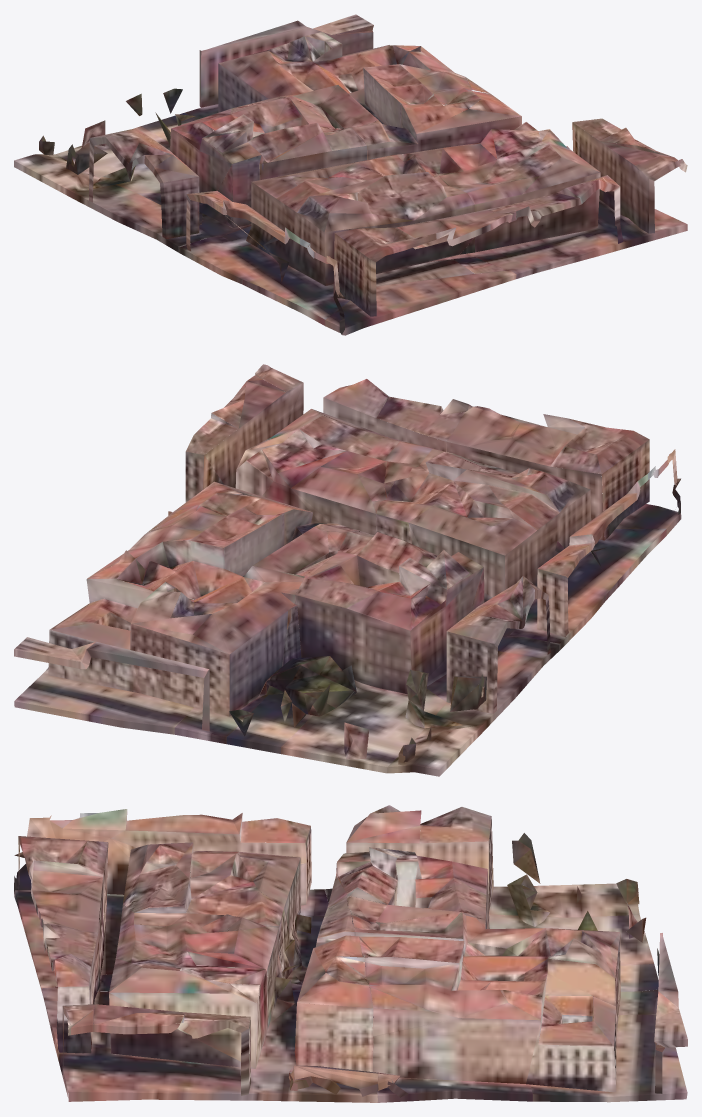
The picture shows the model from 3 angles, top to bottom: view 1: azimuth 30°, elevation 25°; view 2: azimuth 150°, elevation 25°; view 3: azimuth 270°, elevation 25°; orthographic projection. The views are drawn at different scales.
Parts seen in each view (by area): view 1: Mesh_0; view 2: Mesh_0; view 3: Mesh_0.
Boxes of the visible parts, <box> form: Mesh_0: <box>14,14,687,335</box>; Mesh_0: <box>14,364,681,776</box>; Mesh_0: <box>14,805,687,1102</box>.
Bounding box in the file's own units: 133 × 31.79 × 165.
2 materials, 2 textured.
